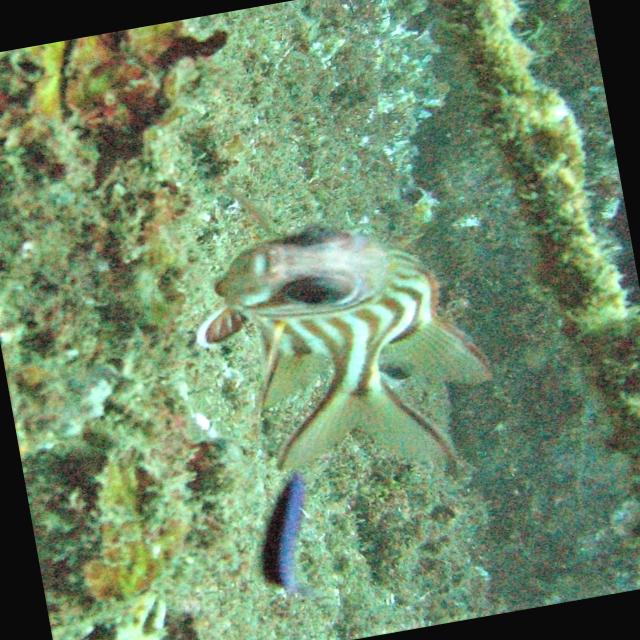Asker Baligi: (165, 185, 521, 522)
